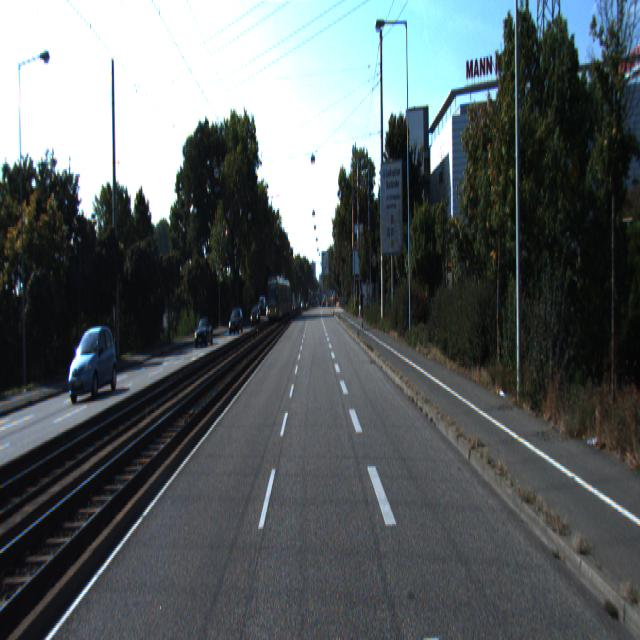Car: (67, 325, 120, 407), (194, 319, 213, 352)
